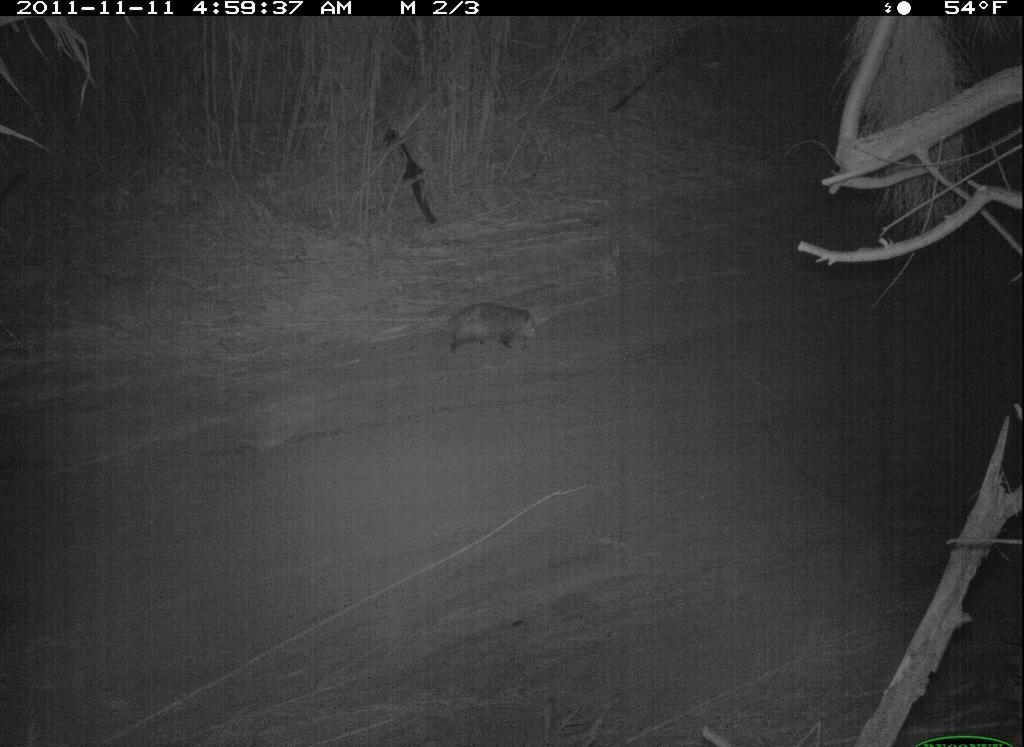opossum: (411, 300, 547, 360)
